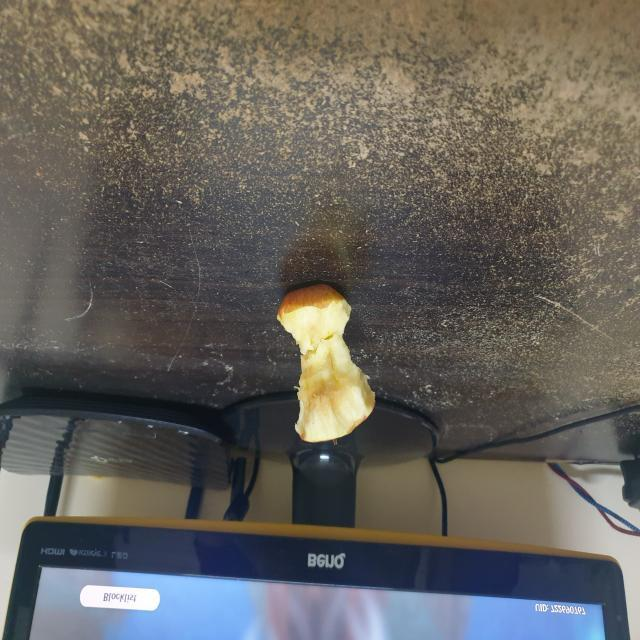apple: (271, 275, 380, 455)
